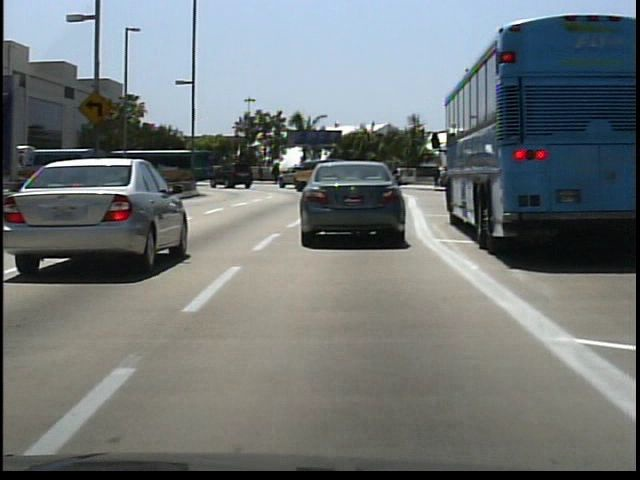person: (429, 163, 443, 190), (256, 160, 266, 181)
